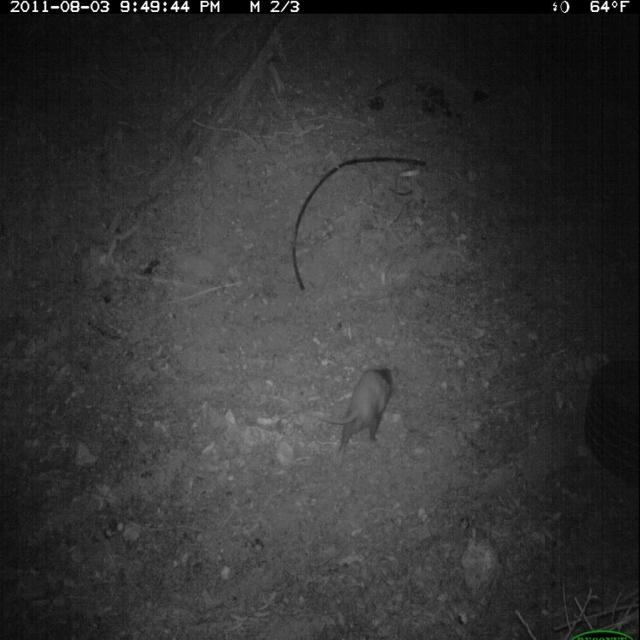opossum: (296, 352, 414, 487)
